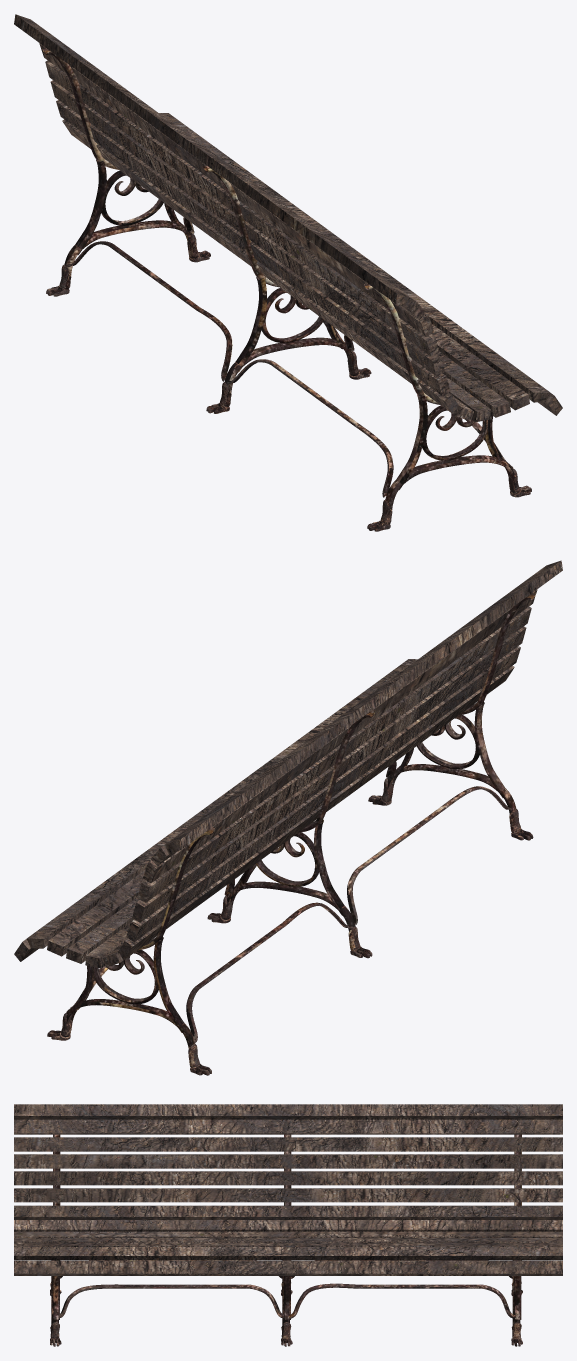
The model's file is park-bench.obj.
3 renders of one model, top to bottom at view 1: azimuth 30°, elevation 25°; view 2: azimuth 150°, elevation 25°; view 3: azimuth 270°, elevation 25°, orthographic. The views are drawn at different scales.
Visible parts, largest first — view 1: Slats, Frame; view 2: Slats, Frame; view 3: Slats, Frame.
Boxes of the visible parts, x1,y1,x2,y2 form: Slats: [14, 14, 562, 422]; Frame: [42, 48, 531, 531]; Slats: [14, 560, 562, 968]; Frame: [47, 592, 535, 1075]; Slats: [14, 1104, 562, 1275]; Frame: [50, 1134, 522, 1346].
Size of the model in its own units: 1.13 by 1.66 by 4.45.
Materials: 2 (2 with a texture image).
